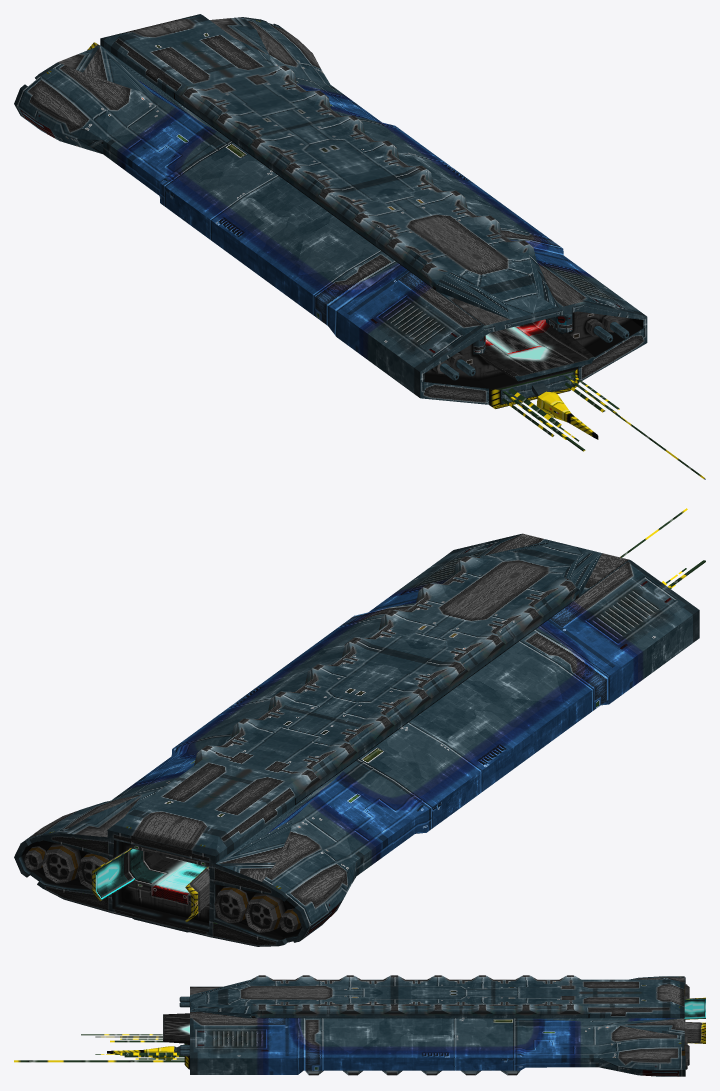
Rendered from WATSON.obj.
The picture shows the model from 3 angles, top to bottom: view 1: azimuth 30°, elevation 25°; view 2: azimuth 150°, elevation 25°; view 3: azimuth 270°, elevation 25°; orthographic projection. The views are drawn at different scales.
Parts seen in each view (by area): view 1: cube1_cube_cube1_auv_; view 2: cube1_cube_cube1_auv_; view 3: cube1_cube_cube1_auv_.
Boxes of the visible parts, left/top/right/bottom form: cube1_cube_cube1_auv_: left=14, top=14, right=705, bottom=479; cube1_cube_cube1_auv_: left=14, top=508, right=705, bottom=946; cube1_cube_cube1_auv_: left=14, top=975, right=705, bottom=1076.
Size of the model in its own units: 7.99 by 3.22 by 27.42.
1 material, 1 textured.
